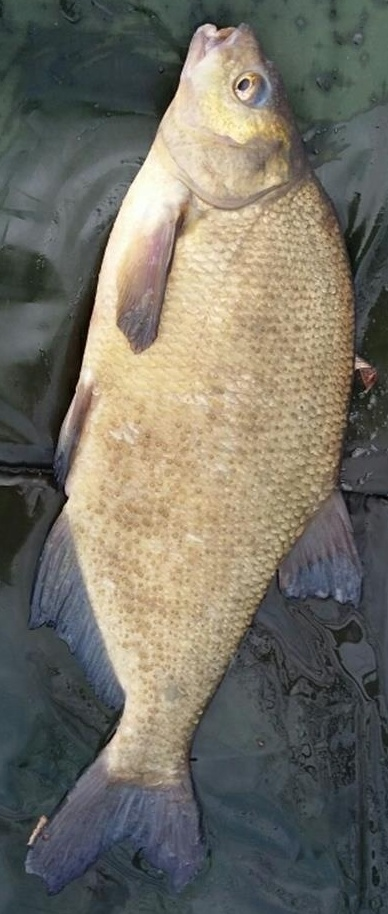Abramis brama: (20, 20, 368, 894)
